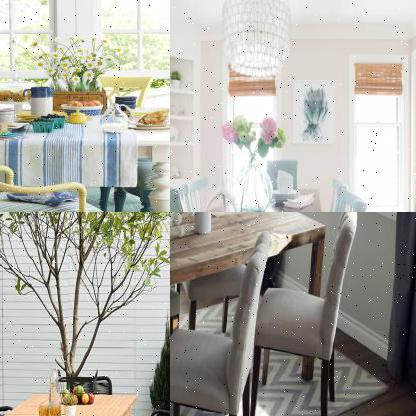table: (170, 212, 331, 415), (0, 100, 169, 211)
